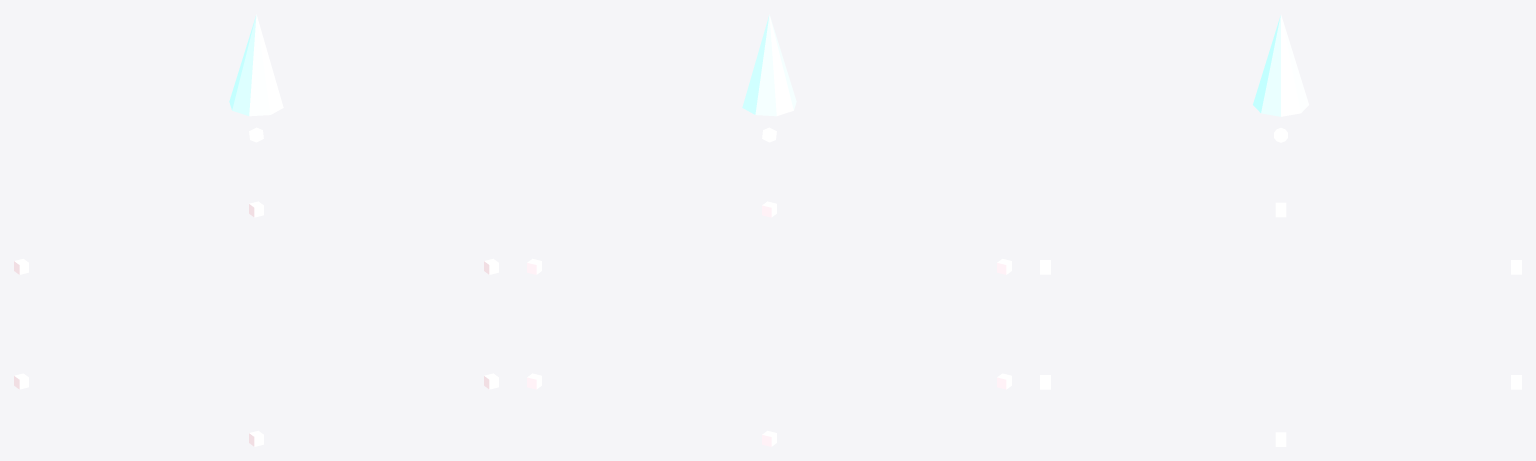
3 views of the same model, side by side, from view 1: azimuth 30°, elevation 25°; view 2: azimuth 150°, elevation 25°; view 3: azimuth 270°, elevation 25° (orthographic).
Parts seen in each view (by area): view 1: GenesisSpire; view 2: GenesisSpire; view 3: GenesisSpire.
Part boxes in pixels (x1,y1,x2,y2): GenesisSpire: (229,14,283,116); GenesisSpire: (742,14,796,116); GenesisSpire: (1253,15,1308,116).
Size of the model in its own units: 2.65 by 1.67 by 2.3.
